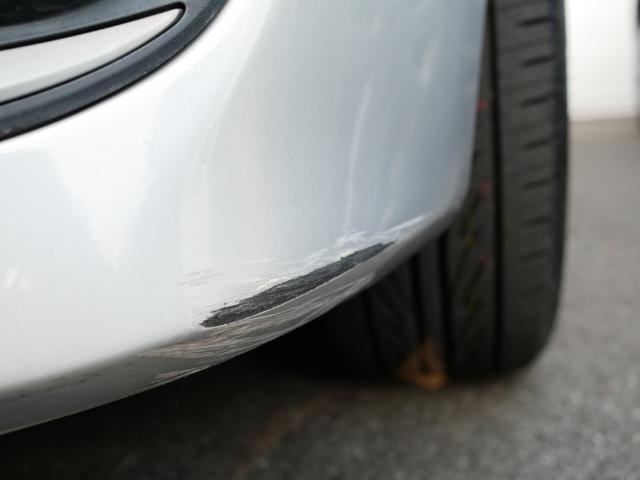scratch: (142, 205, 447, 384)
